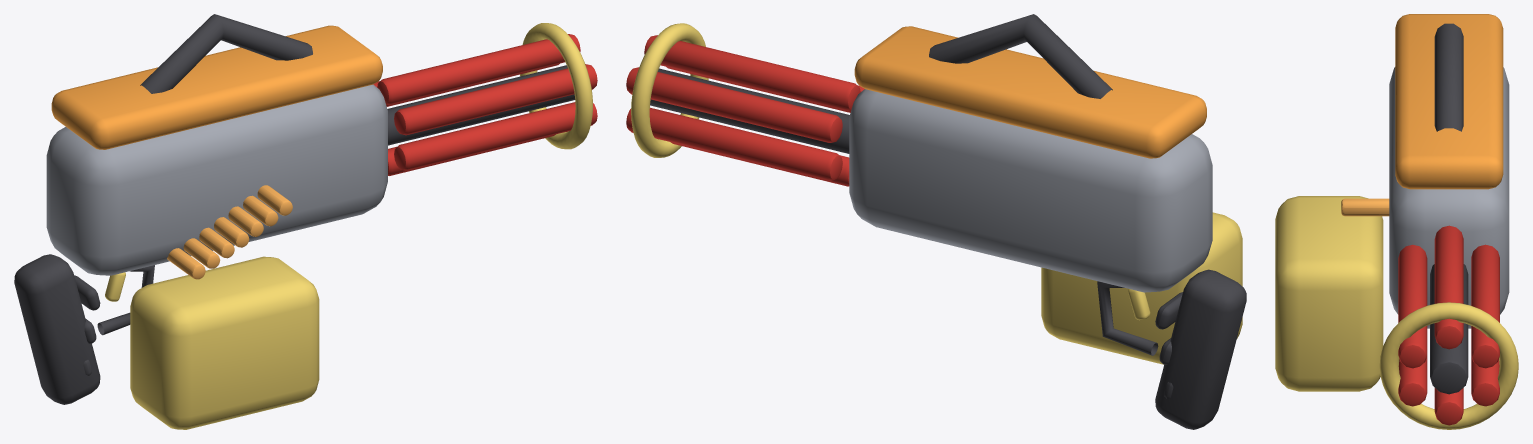
Rendered from belt.glb.
3 views of the same model, side by side, from view 1: azimuth 30°, elevation 25°; view 2: azimuth 150°, elevation 25°; view 3: azimuth 270°, elevation 25° (orthographic). The views are drawn at different scales.
Visible parts, largest first — view 1: receiver, ammobox, cover, handle, barrel1, barrel2, barrel0, carry, band, spindle, guard, beltdart0 (+7 smaller); view 2: receiver, cover, handle, ammobox, barrel5, barrel4, barrel0, carry, band, spindle, guard, barrel3 (+1 smaller); view 3: ammobox, cover, receiver, band, carry, barrel0, barrel1, barrel5, spindle, barrel2, barrel4, barrel3 (+1 smaller).
Part boxes in pixels (box(x1,y1,x2,y2)): receiver: box(46, 84, 387, 275); ammobox: box(130, 256, 319, 429); cover: box(51, 25, 382, 149); handle: box(14, 254, 100, 404); barrel1: box(394, 64, 597, 135); barrel2: box(394, 102, 597, 170); barrel0: box(377, 34, 580, 105); carry: box(140, 14, 312, 93); band: box(520, 23, 592, 149); spindle: box(387, 65, 575, 145); guard: box(97, 265, 154, 335); beltdart0: box(167, 248, 205, 279); receiver: box(849, 89, 1212, 292); cover: box(854, 26, 1206, 158); handle: box(1155, 269, 1246, 429); ammobox: box(1041, 212, 1242, 364); barrel5: box(626, 67, 842, 142); barrel4: box(626, 107, 842, 180); barrel0: box(644, 35, 860, 110); carry: box(929, 14, 1112, 98); band: box(631, 23, 708, 157); spindle: box(650, 68, 849, 153); guard: box(1097, 281, 1158, 355); barrel3: box(658, 139, 849, 186); ammobox: box(1275, 196, 1383, 391); cover: box(1395, 14, 1503, 189); receiver: box(1389, 67, 1509, 328); band: box(1379, 302, 1518, 429); carry: box(1434, 23, 1463, 131); barrel0: box(1434, 225, 1463, 349); barrel1: box(1398, 244, 1427, 368); barrel5: box(1471, 244, 1499, 368); spindle: box(1430, 264, 1468, 394); barrel2: box(1398, 355, 1427, 406); barrel4: box(1471, 356, 1499, 406); barrel3: box(1434, 388, 1463, 425).
Size of the model in its own units: 0.5781 by 0.3419 by 0.203.
